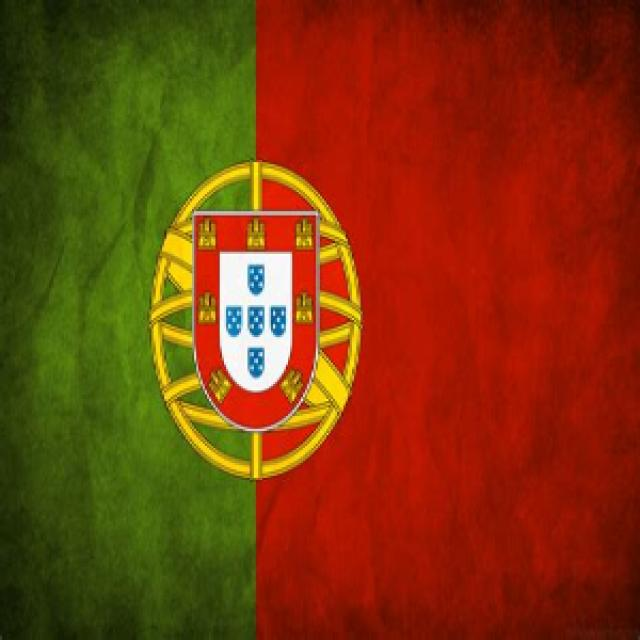portugal: (4, 13, 623, 640)
